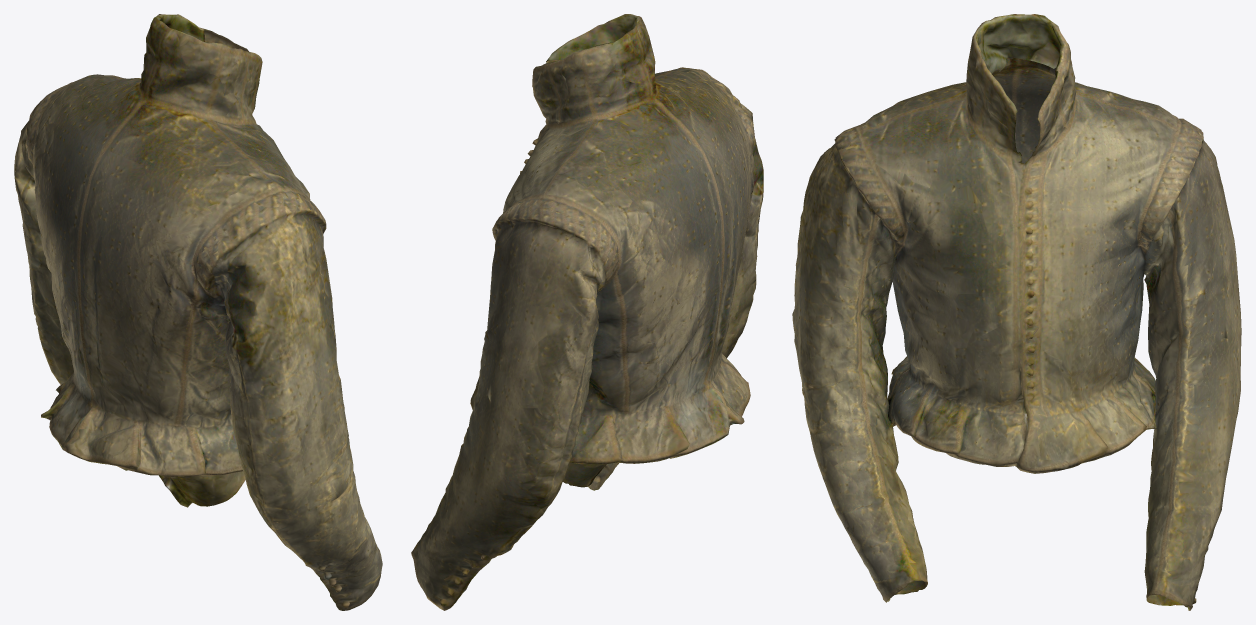
Rendered from inner_doublet.glb.
3 renders of one model, left to right at view 1: azimuth 30°, elevation 25°; view 2: azimuth 150°, elevation 25°; view 3: azimuth 270°, elevation 25°, orthographic. The views are drawn at different scales.
Visible parts, largest first — view 1: inner_doublet; view 2: inner_doublet; view 3: inner_doublet.
Boxes of the visible parts, <box> form: inner_doublet: <box>14,14,382,610</box>; inner_doublet: <box>411,14,763,610</box>; inner_doublet: <box>792,14,1241,610</box>.
Bounding box in the file's own units: 33.18 × 68.35 × 51.
Materials: 1 (1 with a texture image).
